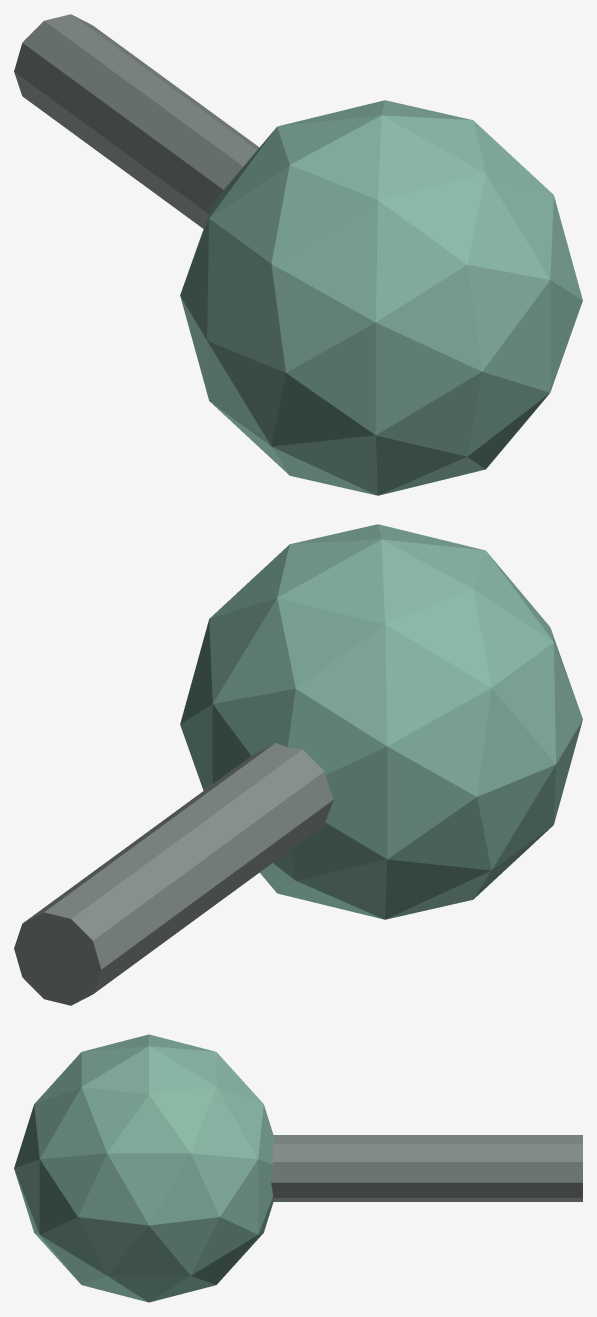
The model's file is decision-node-eco.glb.
3 views of the same model, one above another, from view 1: azimuth 30°, elevation 25°; view 2: azimuth 150°, elevation 25°; view 3: azimuth 270°, elevation 25° (orthographic). The views are drawn at different scales.
Parts seen in each view (by area): view 1: hub, stem; view 2: hub, stem; view 3: hub, stem.
Part boxes in pixels (box(x1,y1,x2,y2)): hub: box(180, 100, 582, 495); stem: box(14, 14, 259, 228); hub: box(180, 524, 582, 919); stem: box(14, 743, 333, 1005); hub: box(14, 1034, 274, 1302); stem: box(271, 1135, 582, 1201).
Size of the model in its own units: 0.56 by 0.56 by 1.18.
